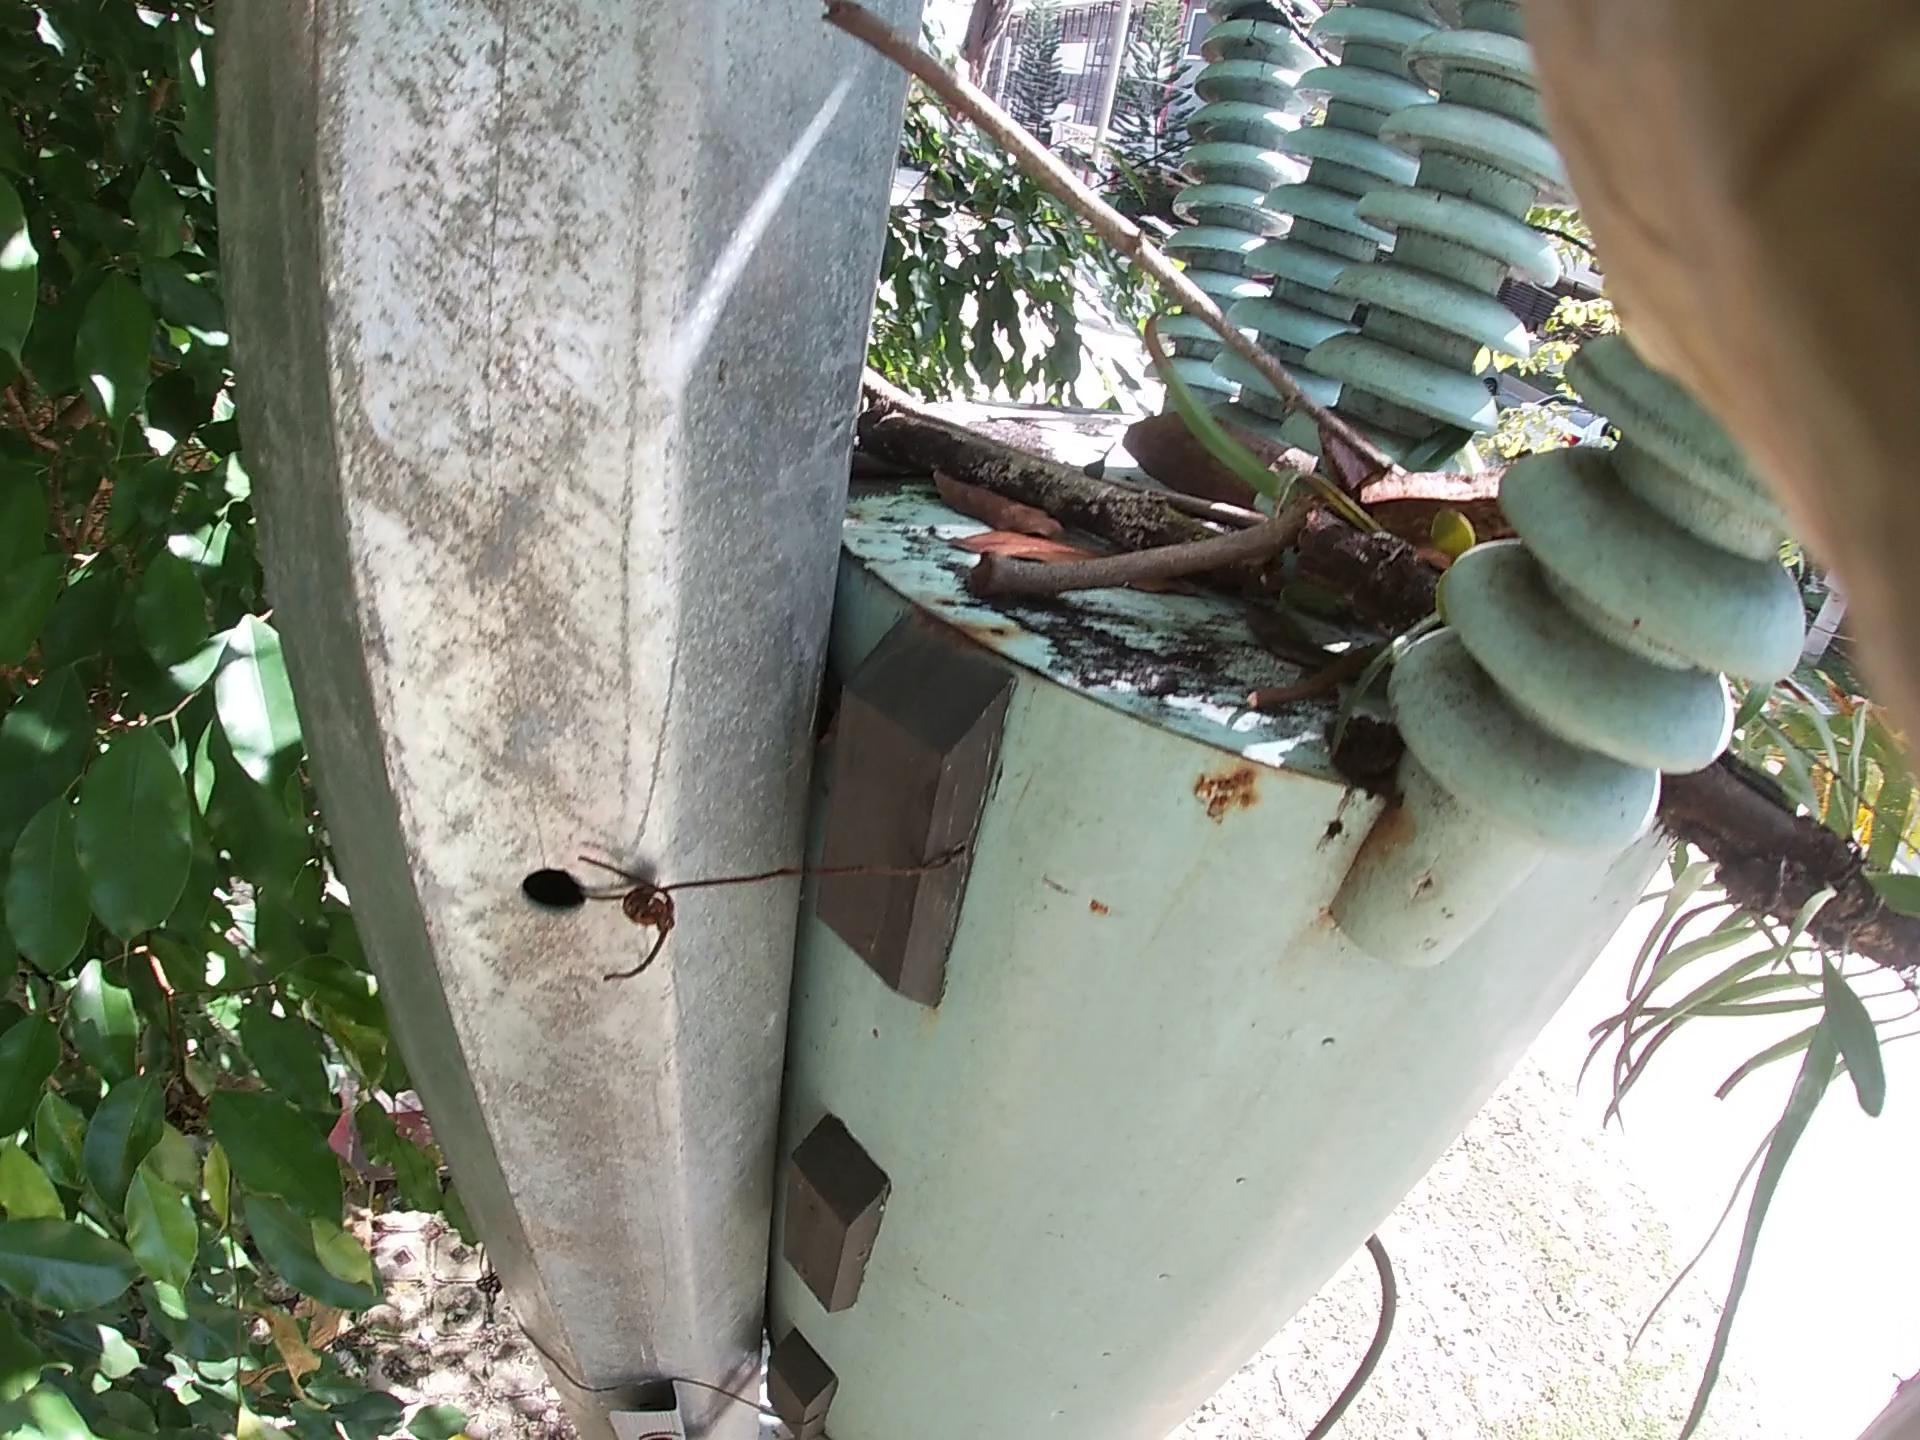branch with leaves: (881, 374, 1920, 888)
leaf: (881, 375, 1081, 613)
mahogany fruit: (1350, 436, 1578, 640), (1105, 374, 1339, 523)
tree branch: (881, 20, 1373, 446), (921, 484, 1237, 669), (1020, 440, 1312, 563)
